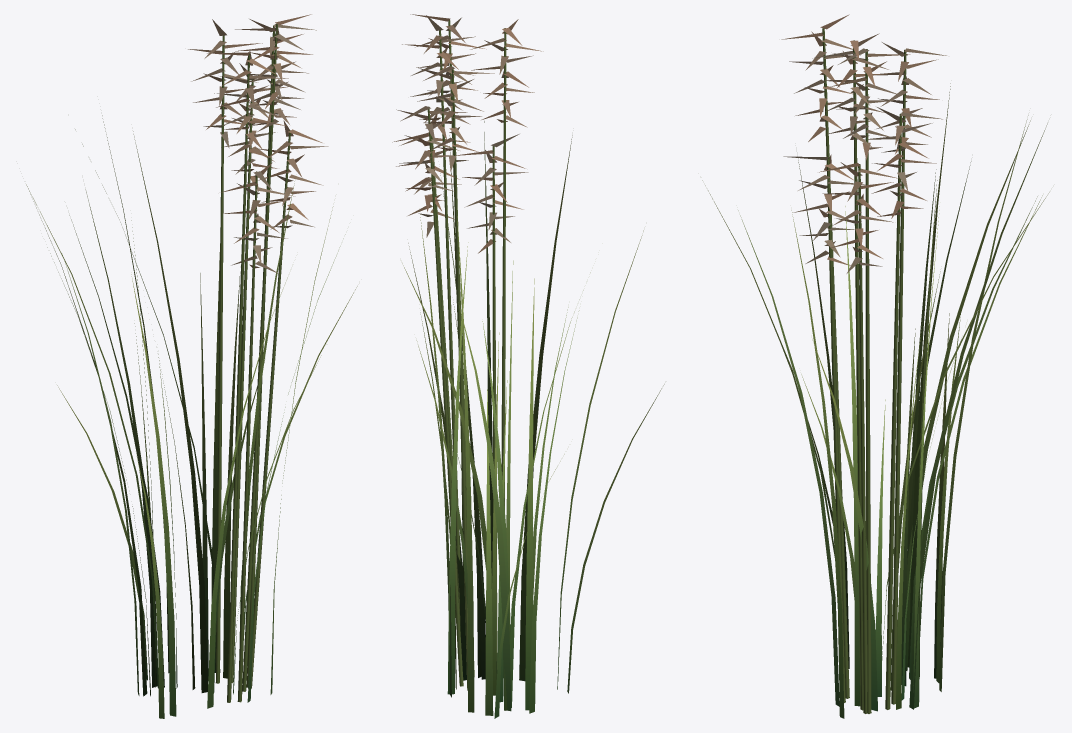
Rendered from reeds-phragmites-a.lod0.glb.
The picture shows the model from 3 angles, left to right: view 1: azimuth 30°, elevation 25°; view 2: azimuth 150°, elevation 25°; view 3: azimuth 270°, elevation 25°; orthographic projection. The views are drawn at different scales.
Parts seen in each view (by area): view 1: reeds-phragmites-a.lod0; view 2: reeds-phragmites-a.lod0; view 3: reeds-phragmites-a.lod0.
Boxes of the visible parts, <box> form: reeds-phragmites-a.lod0: <box>26,14,357,718</box>; reeds-phragmites-a.lod0: <box>392,14,664,718</box>; reeds-phragmites-a.lod0: <box>702,14,1049,718</box>.
Size of the model in its own units: 0.7799 by 1.82 by 0.8715.
